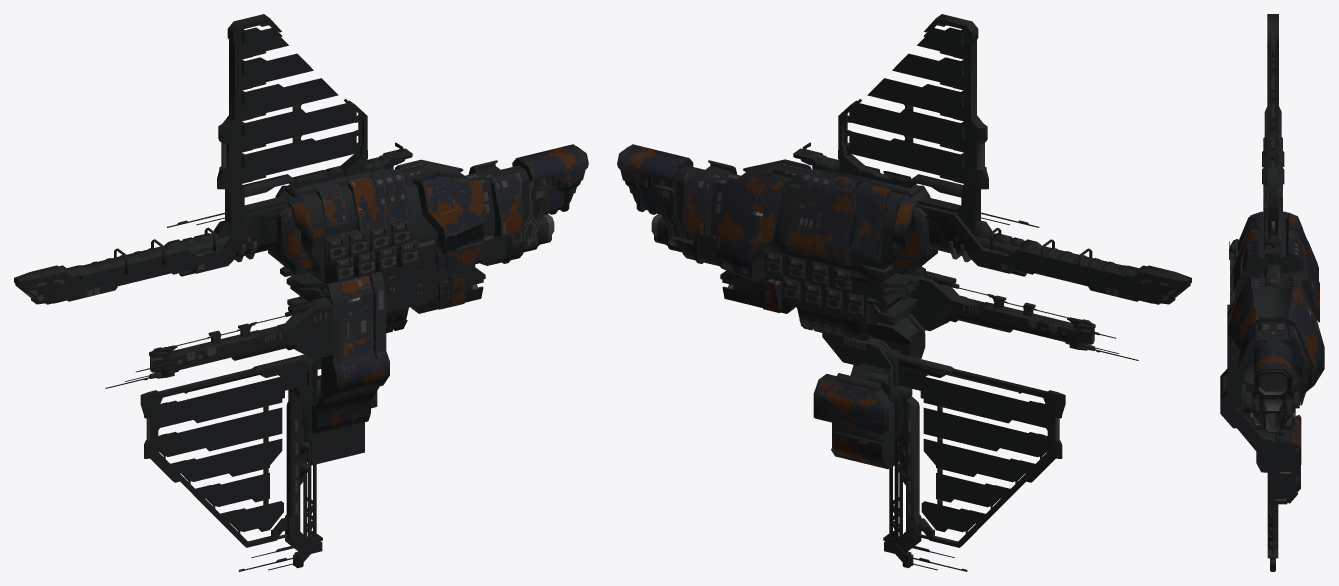
The model's file is tempest.glb.
3 renders of one model, left to right at view 1: azimuth 30°, elevation 25°; view 2: azimuth 150°, elevation 25°; view 3: azimuth 270°, elevation 25°, orthographic. The views are drawn at different scales.
Visible parts, largest first — view 1: Tempest; view 2: Tempest; view 3: Tempest.
Boxes of the visible parts, box(x1,y1,x2,y2) form: Tempest: box(14, 14, 588, 571); Tempest: box(617, 14, 1191, 571); Tempest: box(1220, 14, 1324, 571).
Size of the model in its own units: 909 by 858 by 154.
Materials: 1 (1 with a texture image).
